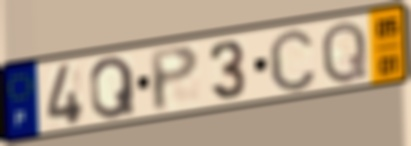3: (208, 39, 249, 101)
4: (44, 60, 85, 128)
C: (266, 26, 319, 95)
P: (147, 42, 202, 114)
Q: (87, 54, 138, 122), (320, 18, 370, 87)
